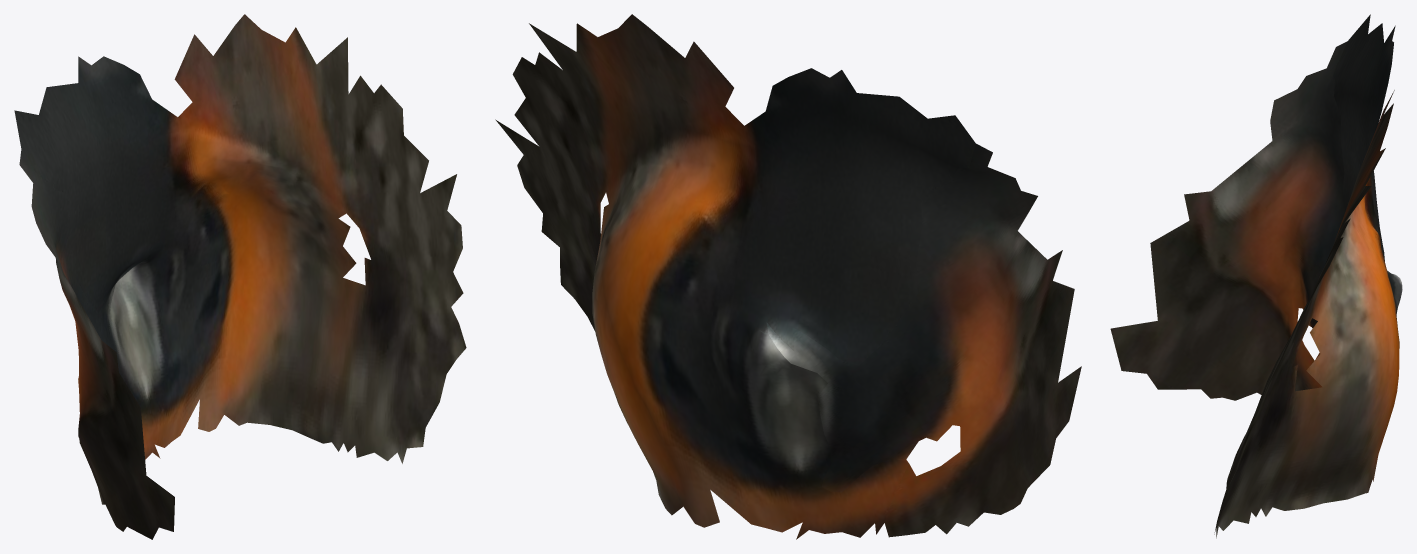
The model's file is rear_left_caster.dae.
3 renders of one model, left to right at view 1: azimuth 30°, elevation 25°; view 2: azimuth 150°, elevation 25°; view 3: azimuth 270°, elevation 25°, orthographic. The views are drawn at different scales.
Parts seen in each view (by area): view 1: rear_left_caster; view 2: rear_left_caster; view 3: rear_left_caster.
Part boxes in pixels (x1=…): rear_left_caster: x1=14, y1=14, x2=466, y2=539; rear_left_caster: x1=495, y1=14, x2=1081, y2=539; rear_left_caster: x1=1110, y1=14, x2=1402, y2=538.
Bounding box in the file's own units: 0.1042 × 0.0629 × 0.0957.
1 material, 1 textured.
